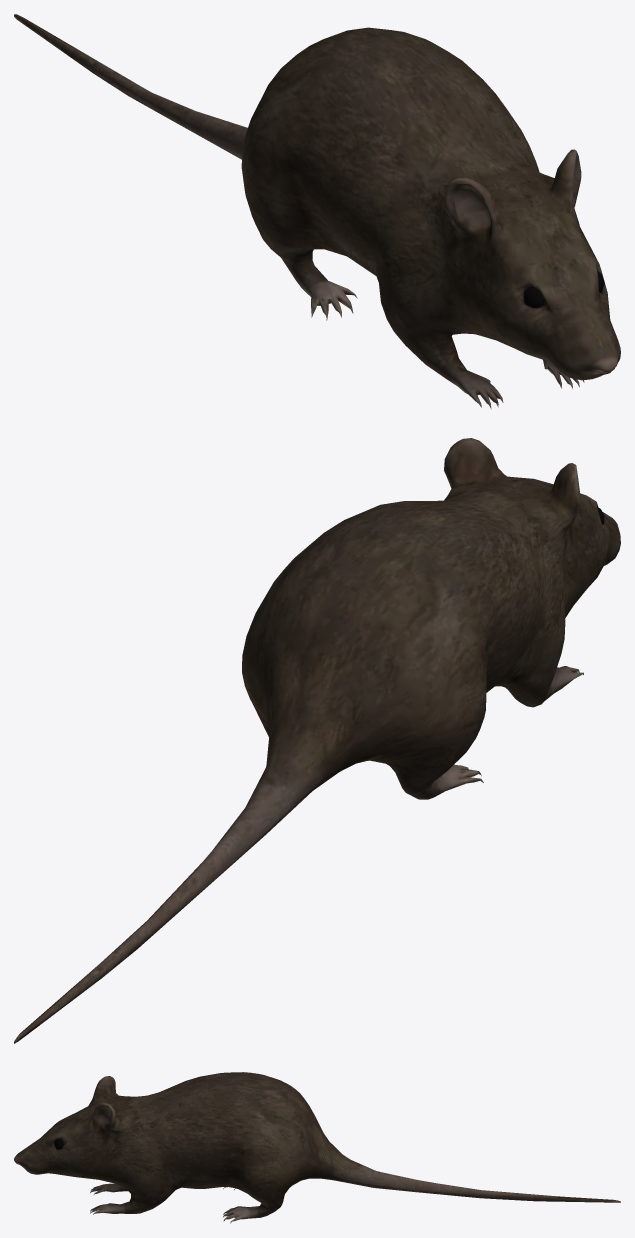
File: p_street_rat.glb
3 views of the same model, one above another, from view 1: azimuth 30°, elevation 25°; view 2: azimuth 150°, elevation 25°; view 3: azimuth 270°, elevation 25° (orthographic). The views are drawn at different scales.
Visible parts, largest first — view 1: street_rat; view 2: street_rat; view 3: street_rat.
Part boxes in pixels (<box>): street_rat: <box>14,14,620,409</box>; street_rat: <box>14,438,620,1043</box>; street_rat: <box>14,1072,620,1223</box>.
Size of the model in its own units: 0.0319 by 0.0338 by 0.1483.
1 material, 1 textured.
